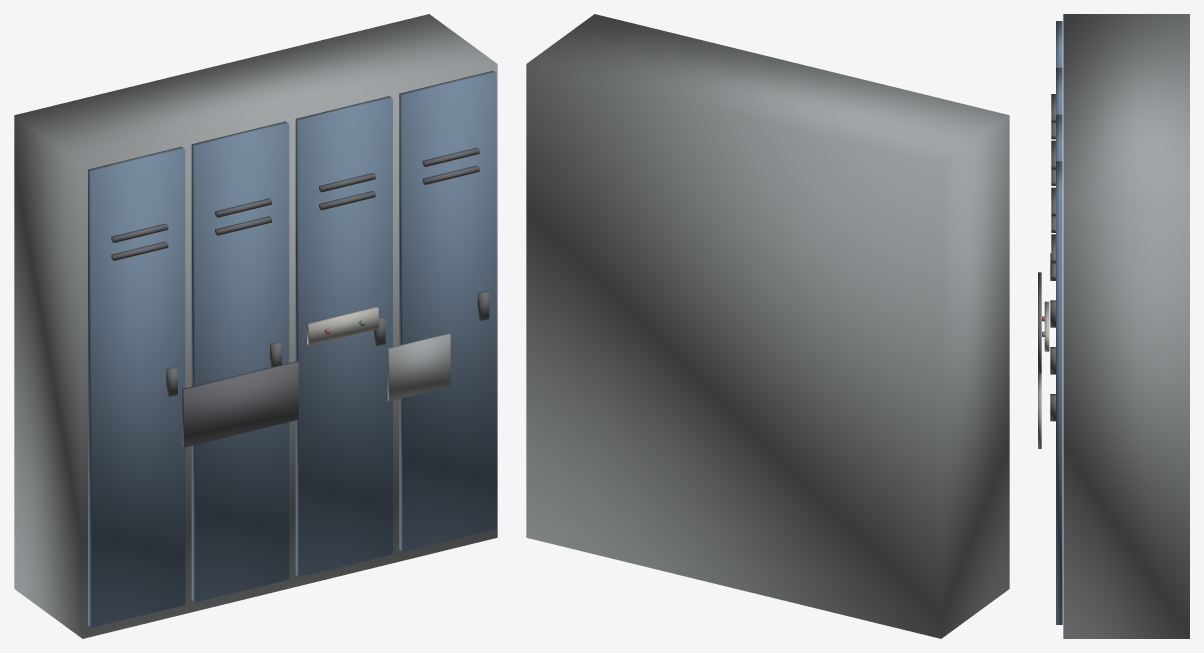
File: school_locker_bank__weathered.glb
3 renders of one model, left to right at view 1: azimuth 30°, elevation 25°; view 2: azimuth 150°, elevation 25°; view 3: azimuth 270°, elevation 25°, orthographic. The views are drawn at different scales.
Parts seen in each view (by area): view 1: world; view 2: world; view 3: world.
Part boxes in pixels (box(x1,y1,x2,y2)): world: box(14, 14, 497, 638); world: box(526, 14, 1009, 638); world: box(1038, 14, 1189, 638).
Size of the model in its own units: 1.68 by 1.83 by 0.576.
